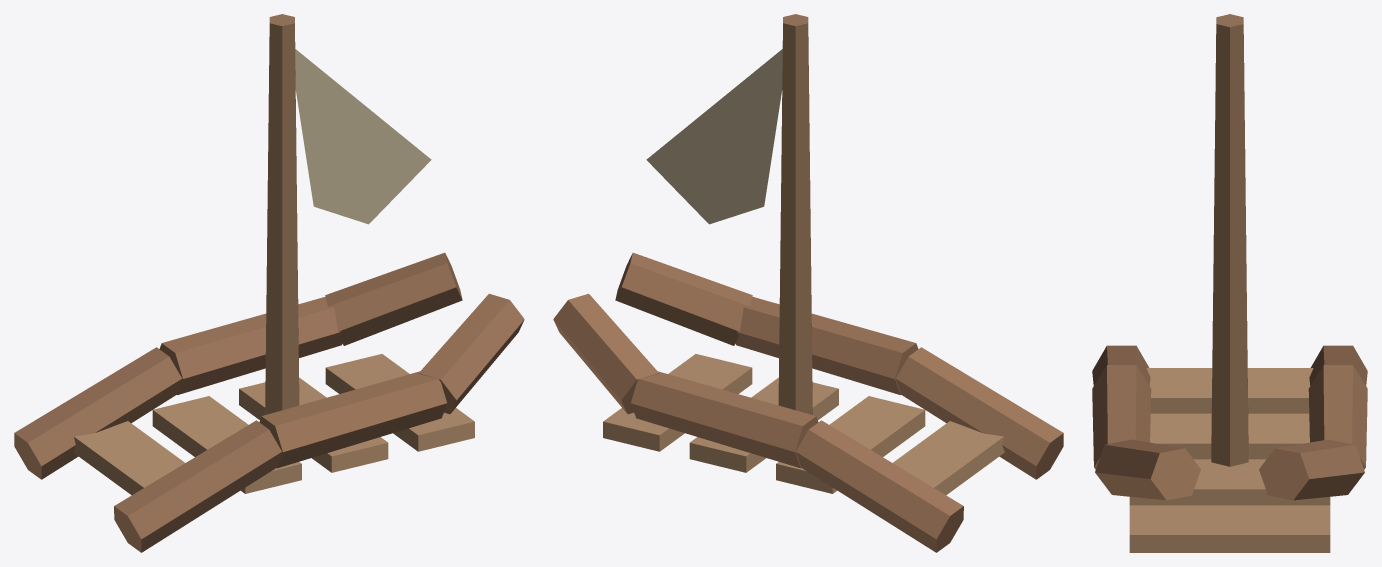
File: map-exclusive-v3__shore_01.glb
The picture shows the model from 3 angles, left to right: view 1: azimuth 30°, elevation 25°; view 2: azimuth 150°, elevation 25°; view 3: azimuth 270°, elevation 25°; orthographic projection. The views are drawn at different scales.
Parts seen in each view (by area): view 1: shore_01; view 2: shore_01; view 3: shore_01.
Part boxes in pixels (x1,y1,x2,y2): shore_01: [14, 14, 524, 552]; shore_01: [553, 14, 1063, 552]; shore_01: [1092, 14, 1367, 552].
Bounding box in the file's own units: 2.66 × 2.69 × 1.4.
